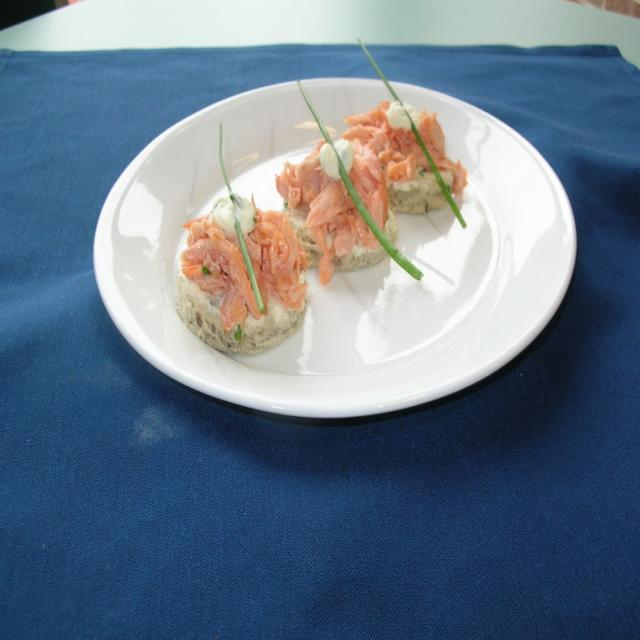non-organic waste: (87, 68, 587, 438)
